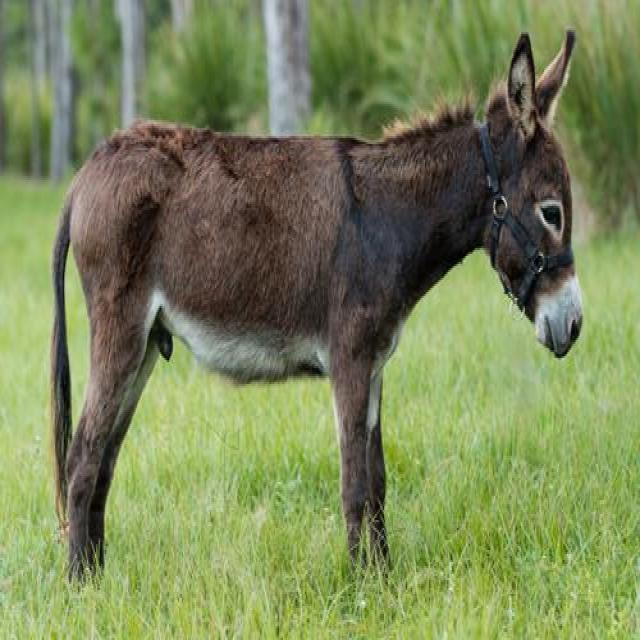Donkey: (52, 28, 584, 595)
